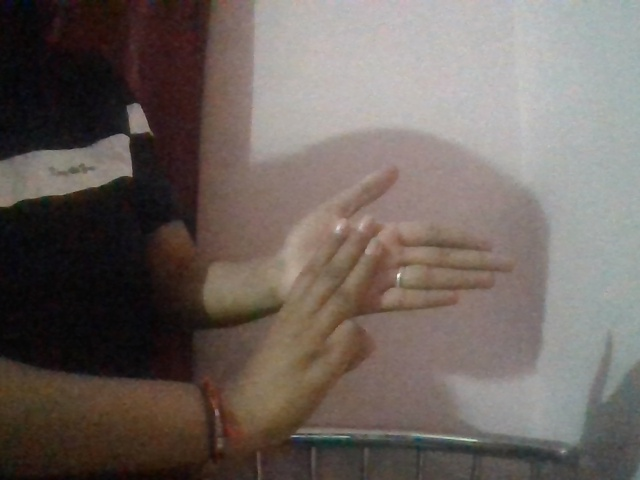M: (235, 157, 515, 431)
